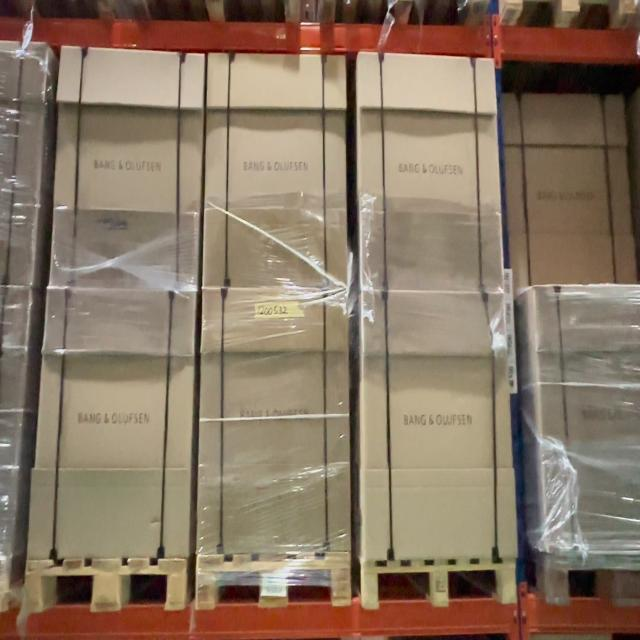box: (362, 301, 512, 557), (204, 296, 346, 552), (49, 292, 186, 554), (360, 58, 497, 290), (210, 58, 344, 286), (63, 55, 196, 280)
